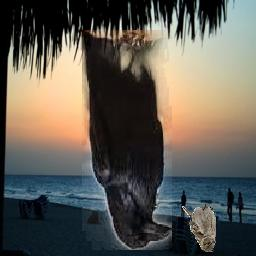Crow: (82, 30, 172, 250)
Sparrow: (182, 200, 216, 253)
